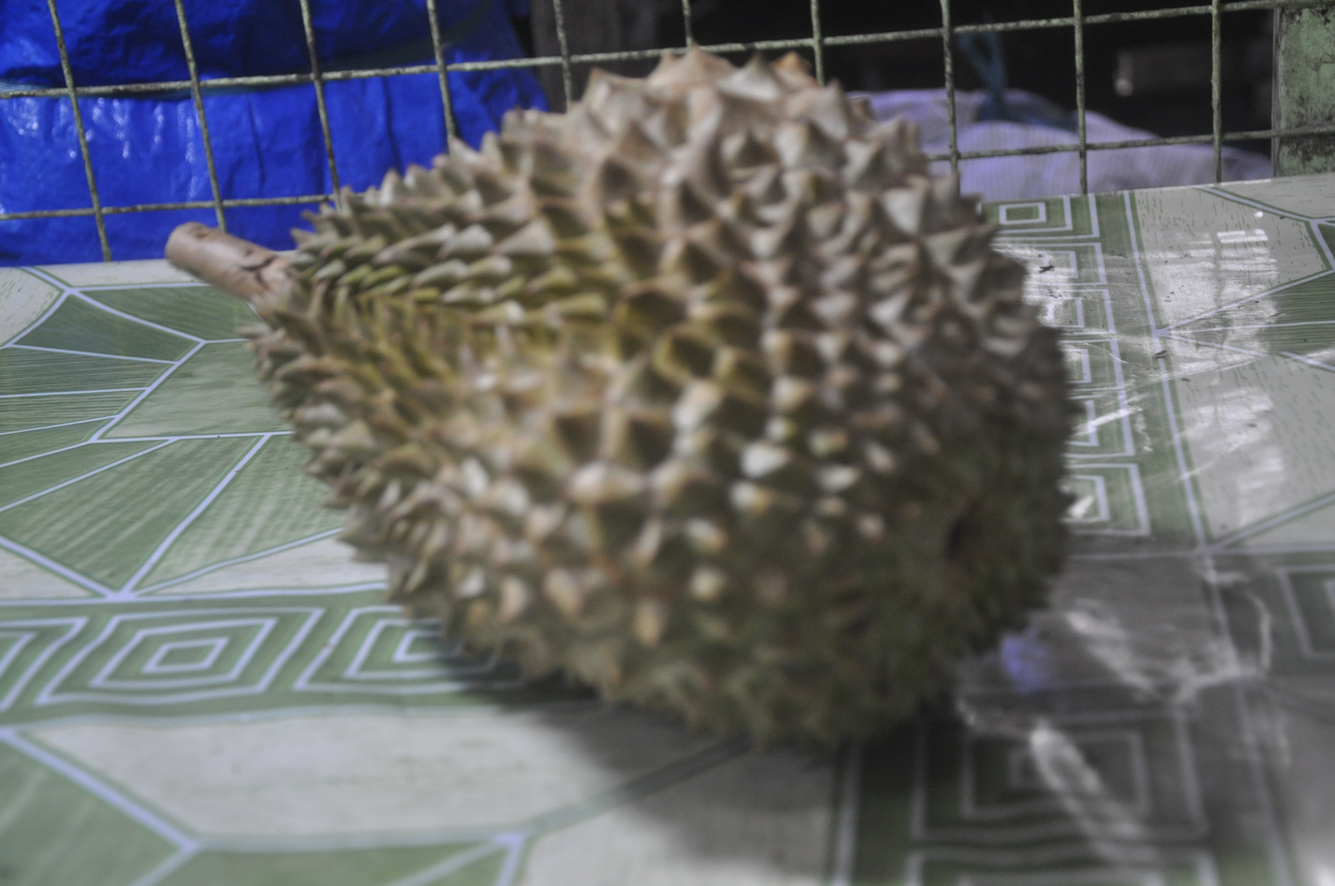mature: (254, 50, 1072, 747)
